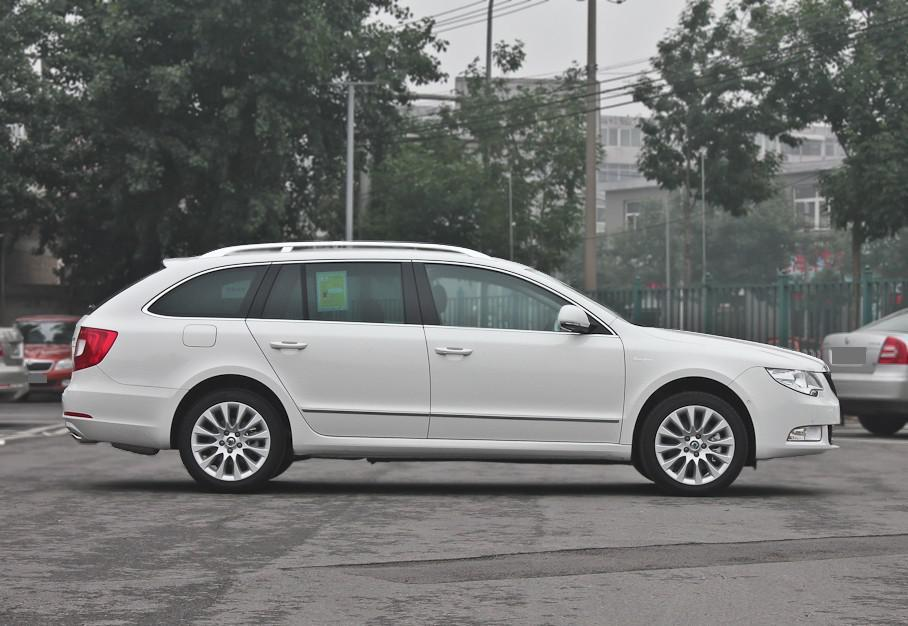Wagon: (60, 240, 840, 494)
